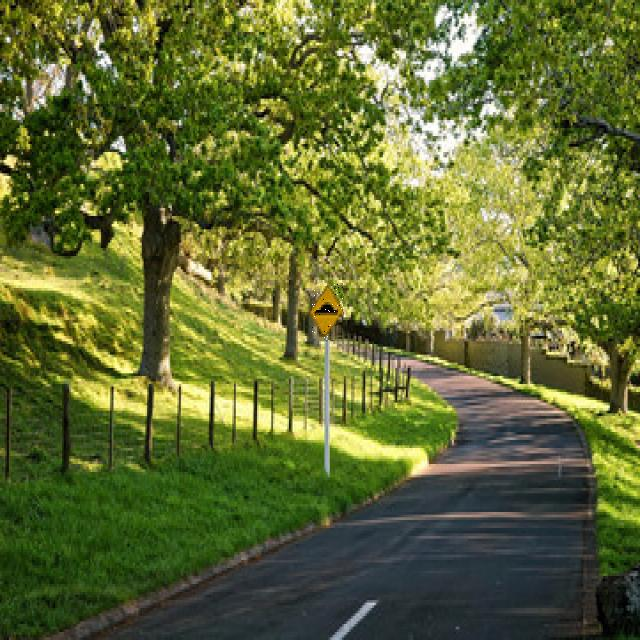hump: (311, 283, 343, 340)
